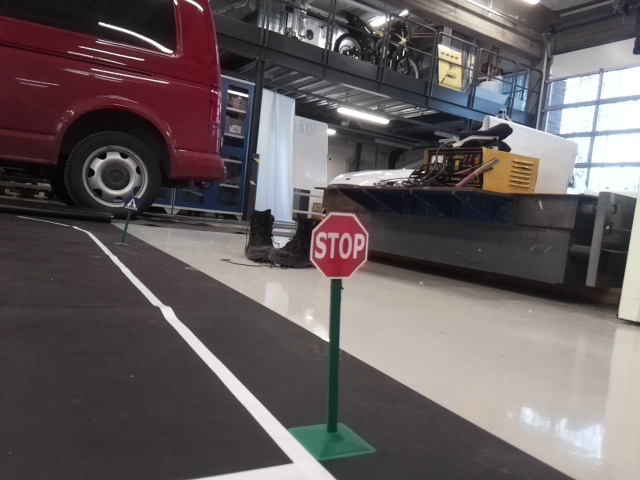Stop: (306, 209, 369, 280)
